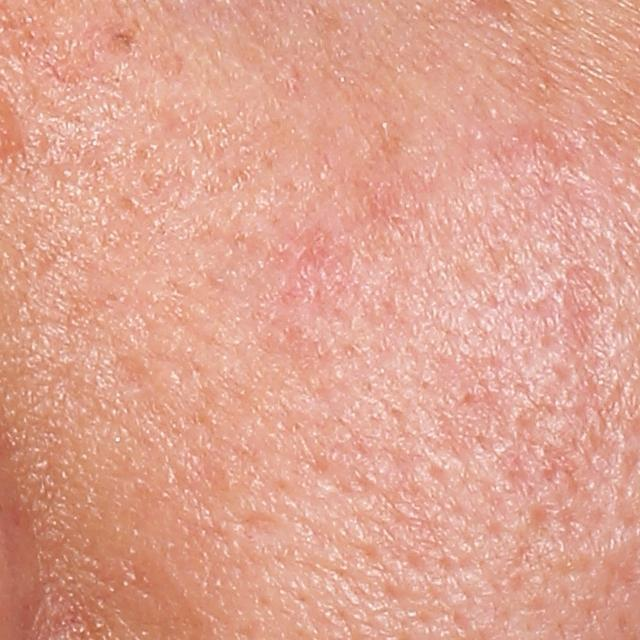atrophic_scar: (559, 261, 605, 351), (111, 349, 160, 384)
